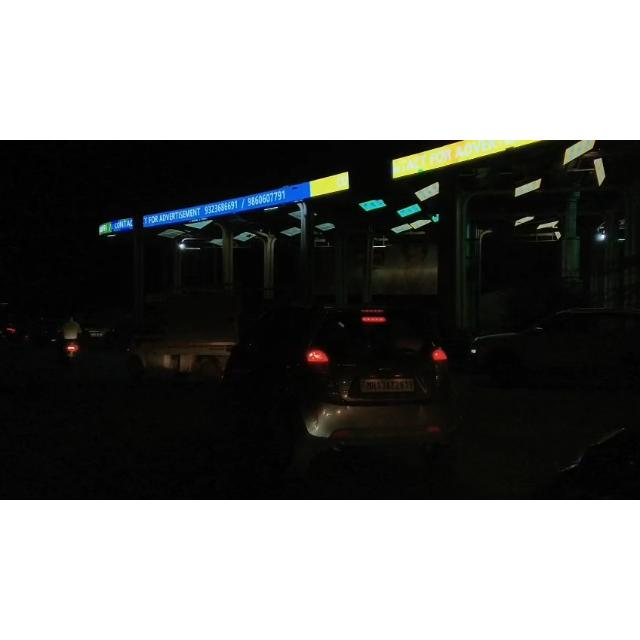car: (214, 284, 481, 478), (466, 297, 640, 405)
